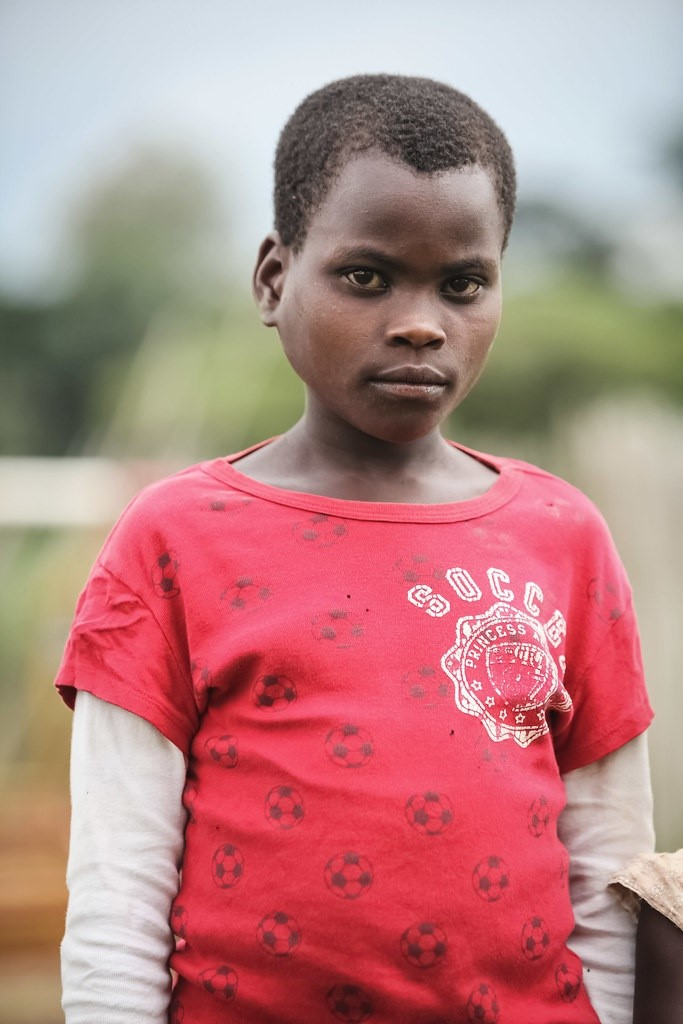face_no_mask: (252, 76, 516, 449)
